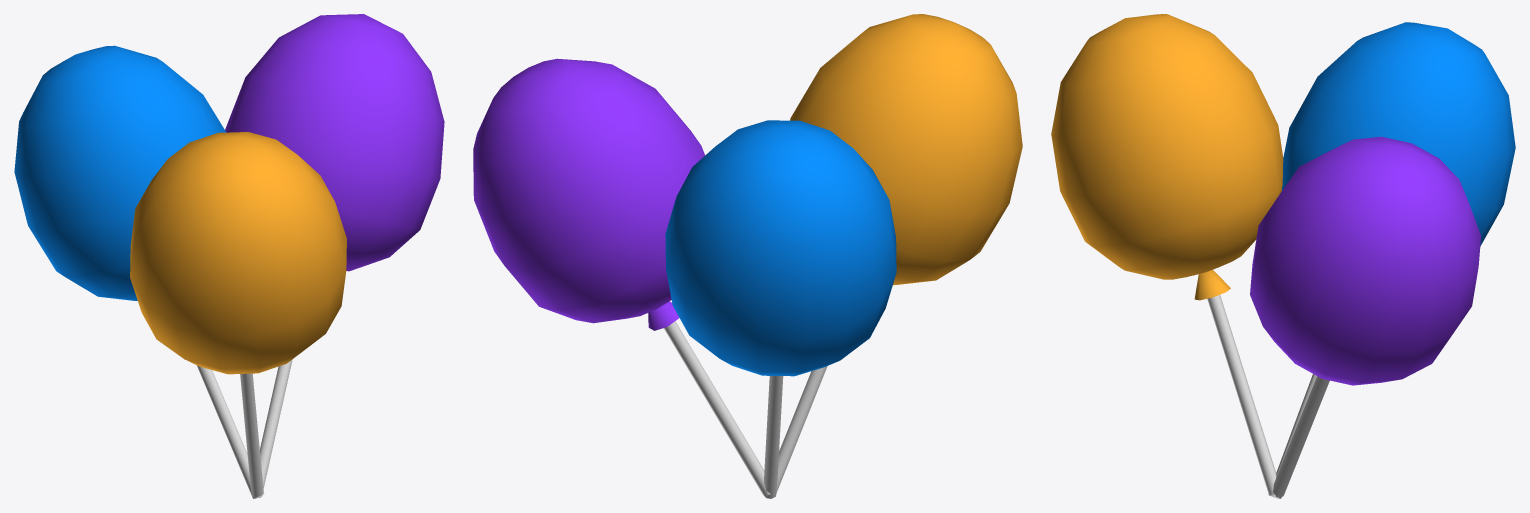
File: Balloons.fbx
The picture shows the model from 3 angles, left to right: view 1: azimuth 30°, elevation 25°; view 2: azimuth 150°, elevation 25°; view 3: azimuth 270°, elevation 25°; orthographic projection. The views are drawn at different scales.
Parts seen in each view (by area): view 1: Balloons; view 2: Balloons; view 3: Balloons.
Boxes of the visible parts, x1,y1,x2,y2 form: Balloons: (14, 14, 444, 498); Balloons: (473, 14, 1022, 498); Balloons: (1051, 14, 1515, 498).
Bounding box in the file's own units: 403 × 421 × 407.
